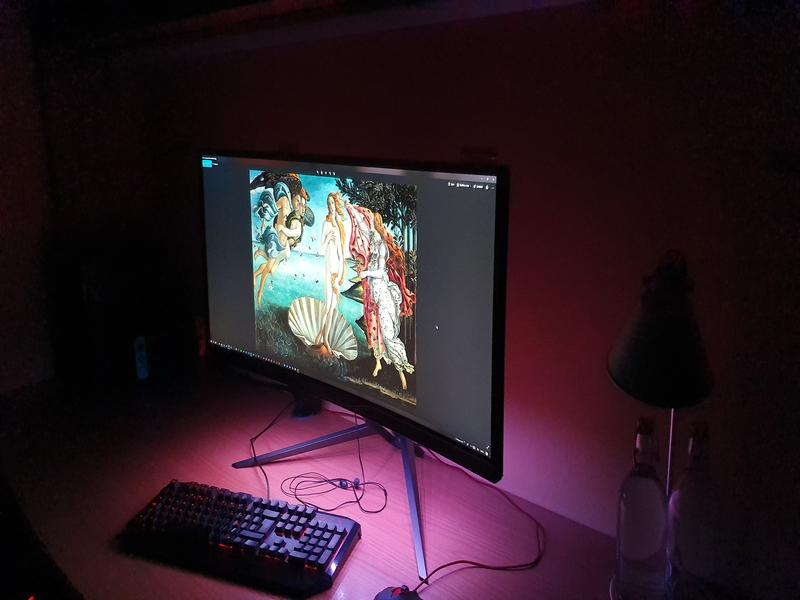Venere: (241, 165, 421, 413)
